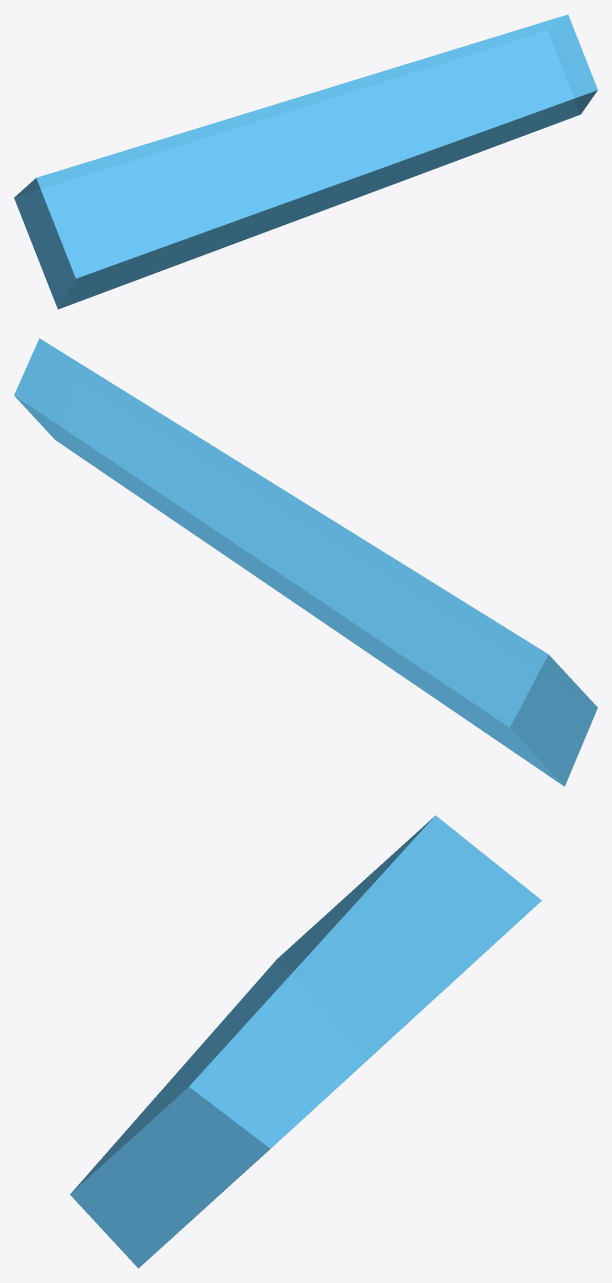
The model's file is Event_421115418_HErechit_8.fbx.
3 views of the same model, one above another, from view 1: azimuth 30°, elevation 25°; view 2: azimuth 150°, elevation 25°; view 3: azimuth 270°, elevation 25° (orthographic). The views are drawn at different scales.
Parts seen in each view (by area): view 1: Model; view 2: Model; view 3: Model.
Boxes of the visible parts, x1,y1,x2,y2 form: Model: (14,14,597,309); Model: (14,338,597,786); Model: (70,815,541,1268).
Size of the model in its own units: 3.39 by 1.48 by 1.48.
